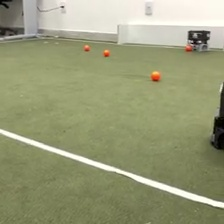ball: (149, 69, 161, 81), (82, 42, 91, 51), (102, 48, 110, 56), (186, 44, 194, 51)
goal: (116, 21, 224, 50)
robot: (186, 29, 211, 52)
